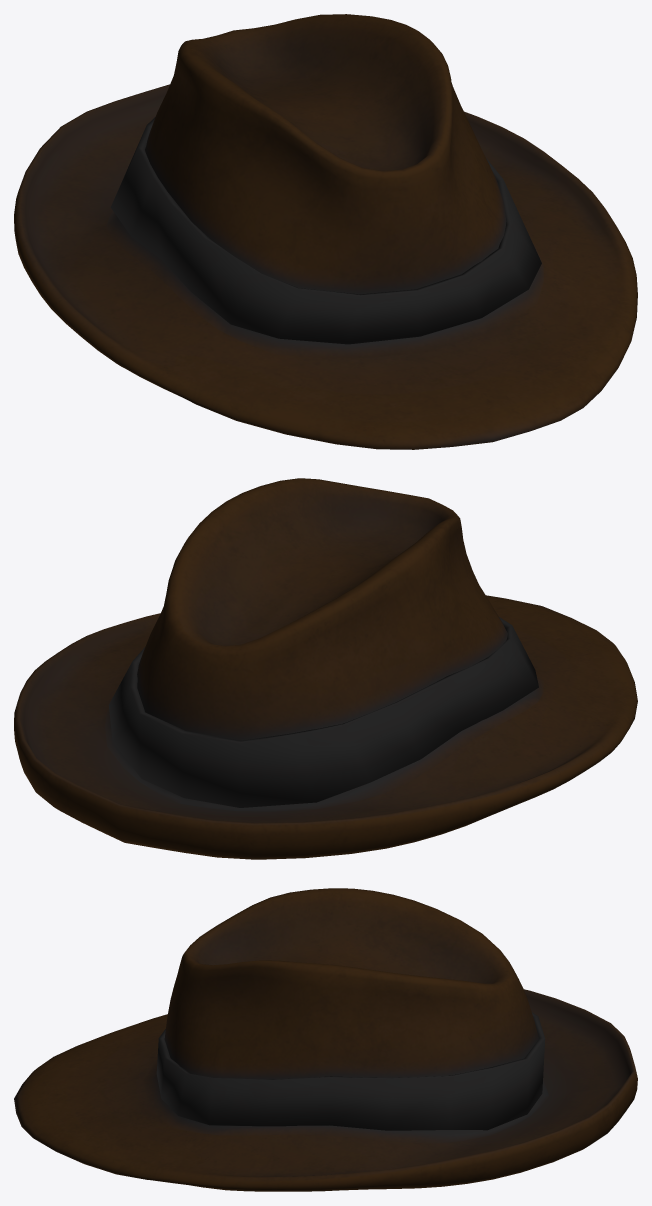
Rendered from Fedora.fbx.
3 renders of one model, top to bottom at view 1: azimuth 30°, elevation 25°; view 2: azimuth 150°, elevation 25°; view 3: azimuth 270°, elevation 25°, orthographic. The views are drawn at different scales.
Visible parts, largest first — view 1: Fedora; view 2: Fedora; view 3: Fedora.
Part boxes in pixels (x1,y1,x2,y2): Fedora: (14,14,637,449); Fedora: (14,478,637,859); Fedora: (14,888,637,1191).
Bounding box in the file's own units: 1.35 × 0.5664 × 1.73.
